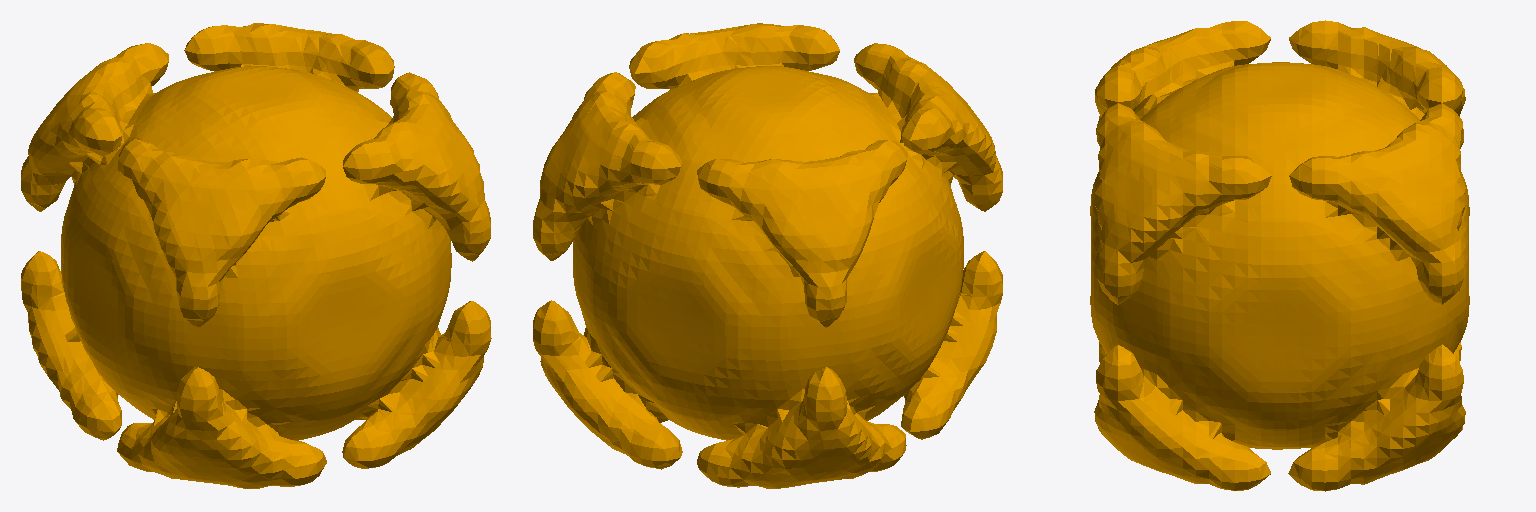
robot.urdf — B21_2:
<?xml version="1.0"?>
<robot name="B21_2">
  <link name="base_link">
    <visual>
      <geometry>
        <mesh filename="../../../../meshes/egad/train/B21_2.obj" />
      </geometry>
    </visual>
  </link>
</robot>

--- Render facts (derived) ---
Views: 3 orthographic renders of the robot side by side, from view 1: azimuth 30°, elevation 25°; view 2: azimuth 150°, elevation 25°; view 3: azimuth 270°, elevation 25°.
Model B21_2 with 1 links and 0 joints (none), rooted at base_link, posed every joint at zero.
Links seen in each view (by area): view 1: base_link; view 2: base_link; view 3: base_link.
Link boxes in pixels (x1,y1,x2,y2): base_link: (21,23,491,488); base_link: (533,23,1002,488); base_link: (1090,20,1469,491).
Bounding box of the posed robot: 0.06 × 0.06 × 0.06 m (x, y, z).
Meshes: 1 distinct files referenced, 1 mesh visuals loaded (1 OBJ).